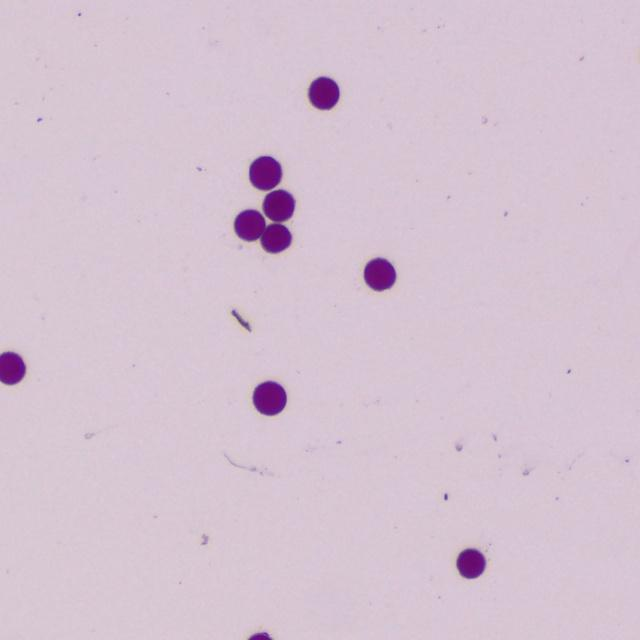viable: (253, 381, 286, 415), (249, 156, 281, 190), (364, 258, 395, 290), (263, 190, 294, 221), (234, 210, 265, 240), (309, 77, 338, 109), (261, 223, 291, 252), (457, 548, 485, 578), (0, 352, 25, 384), (248, 632, 271, 639)
